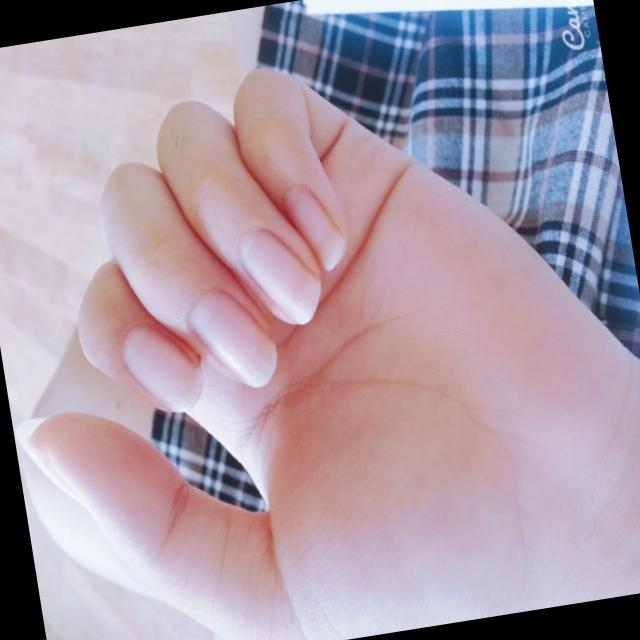Nail: (193, 291, 277, 386), (240, 228, 319, 323), (123, 325, 202, 409), (285, 186, 344, 269)
